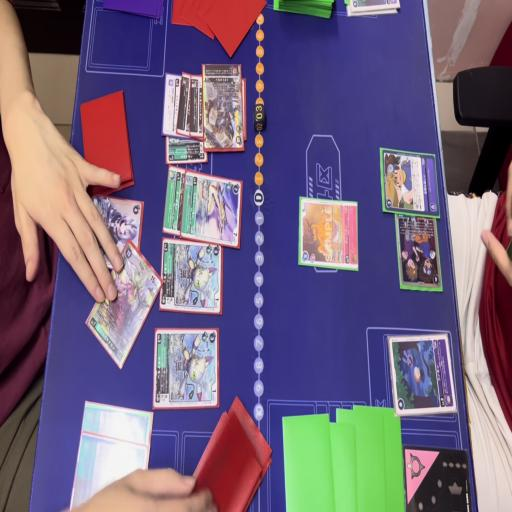card: (88, 245, 160, 374), (70, 429, 150, 512), (388, 330, 460, 417), (151, 323, 222, 411), (183, 166, 245, 252), (297, 197, 361, 278), (160, 239, 224, 319), (84, 192, 148, 270), (379, 147, 440, 220), (80, 399, 156, 457), (394, 210, 446, 294), (200, 61, 243, 150), (162, 164, 186, 239), (163, 136, 208, 168), (160, 72, 181, 138), (188, 71, 205, 138), (178, 68, 190, 142)
